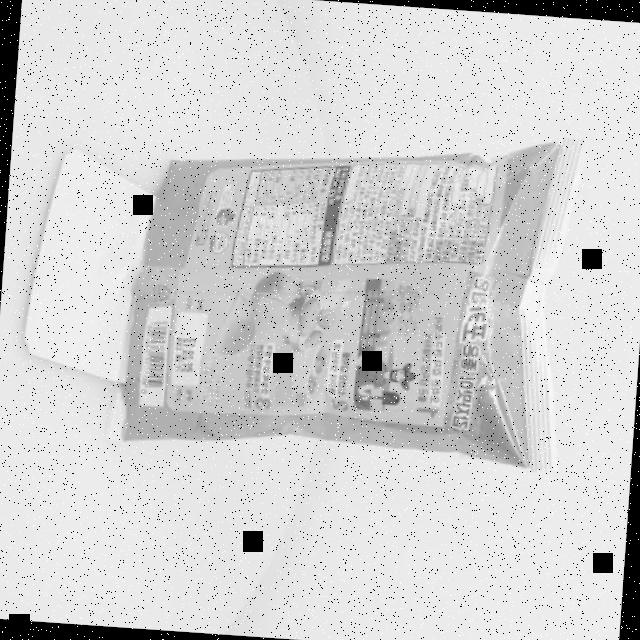snack_bag: (91, 95, 610, 498)
